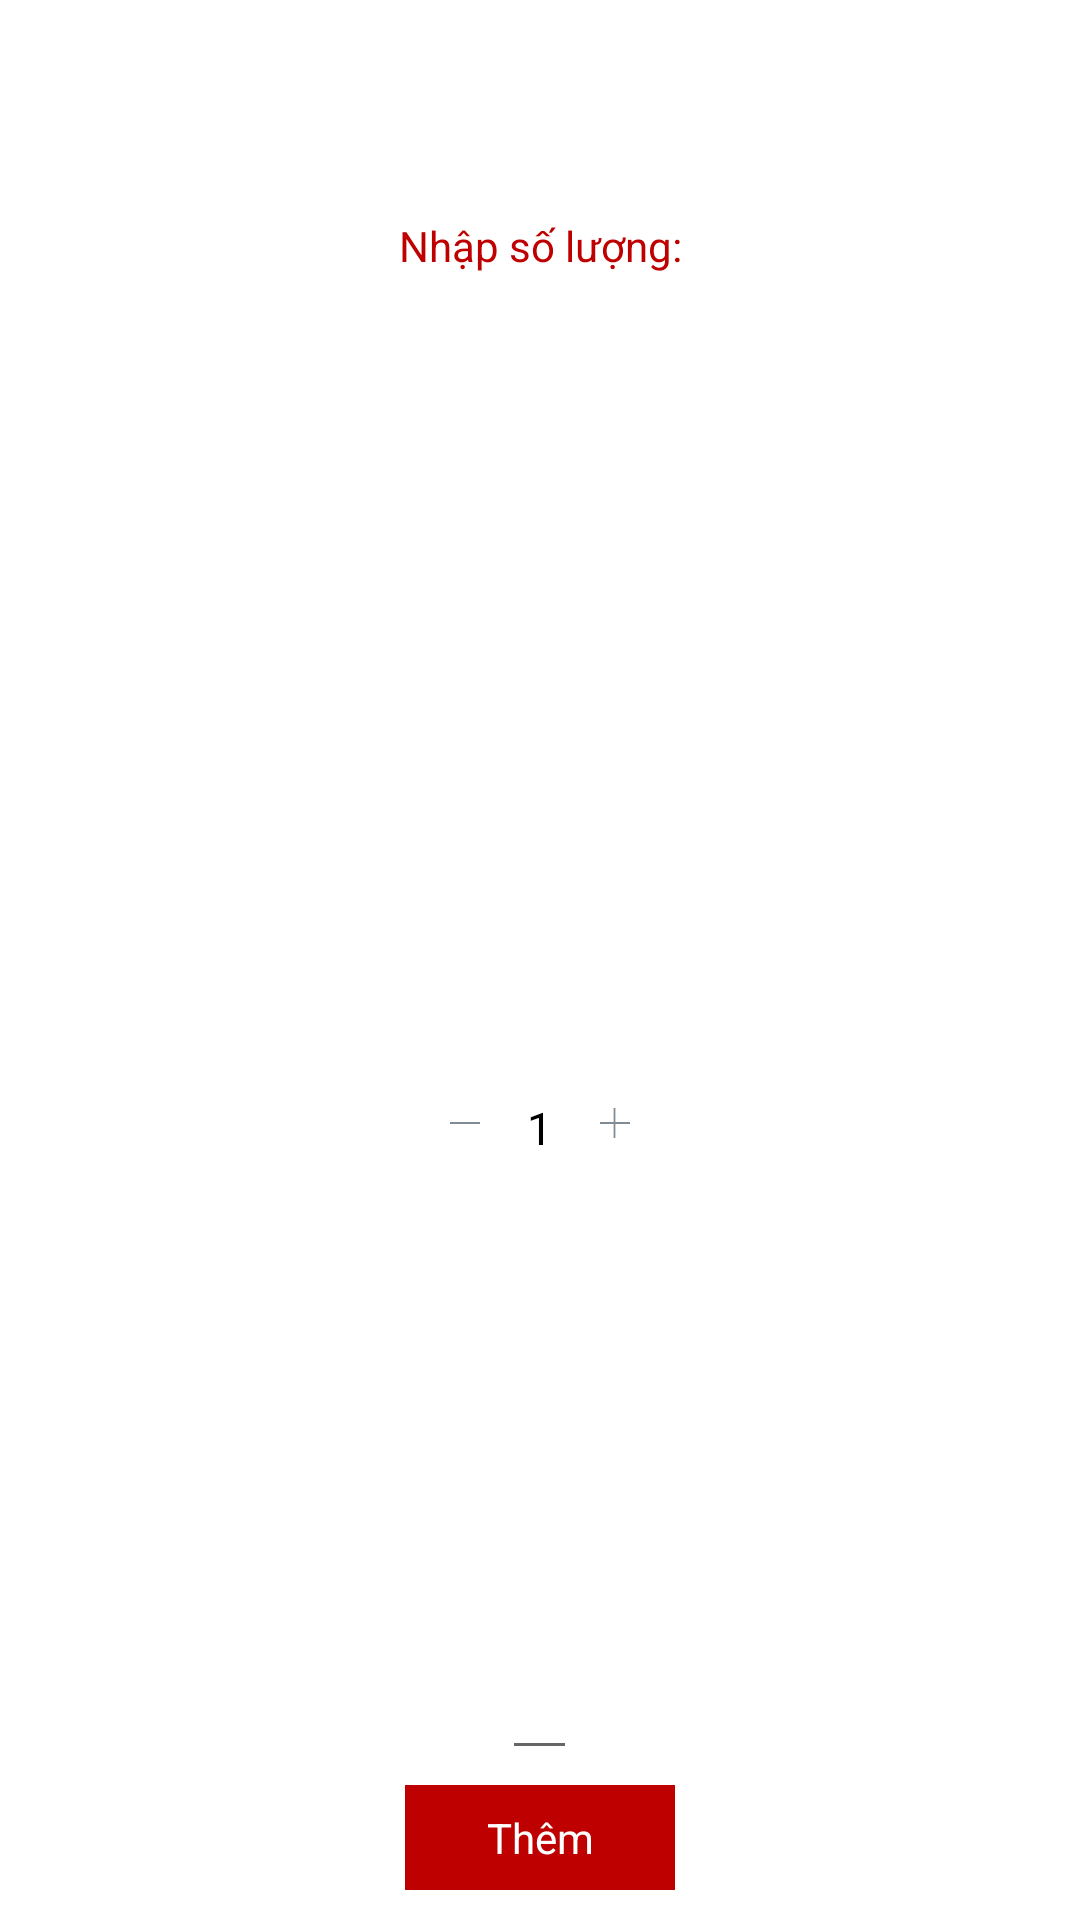

Point at icon controls on the screen. Image size 1080px×1920px, points as (x=x, y=y).
plus: (x=615, y=1123)
